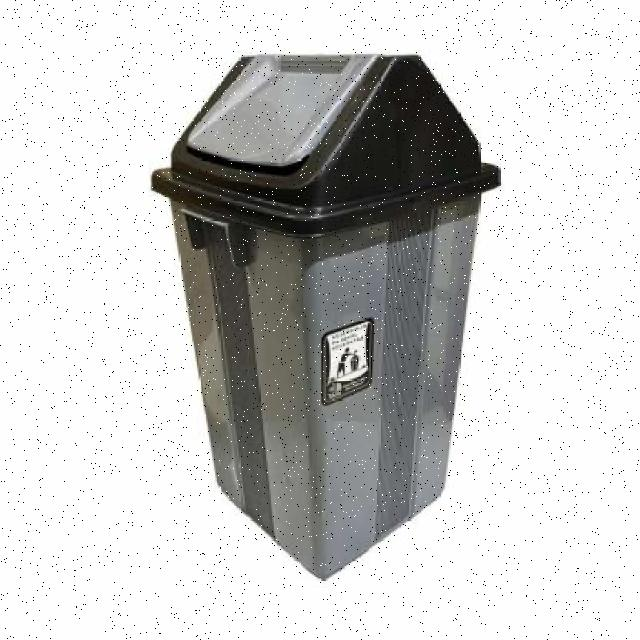garbage container: (144, 45, 521, 598)
